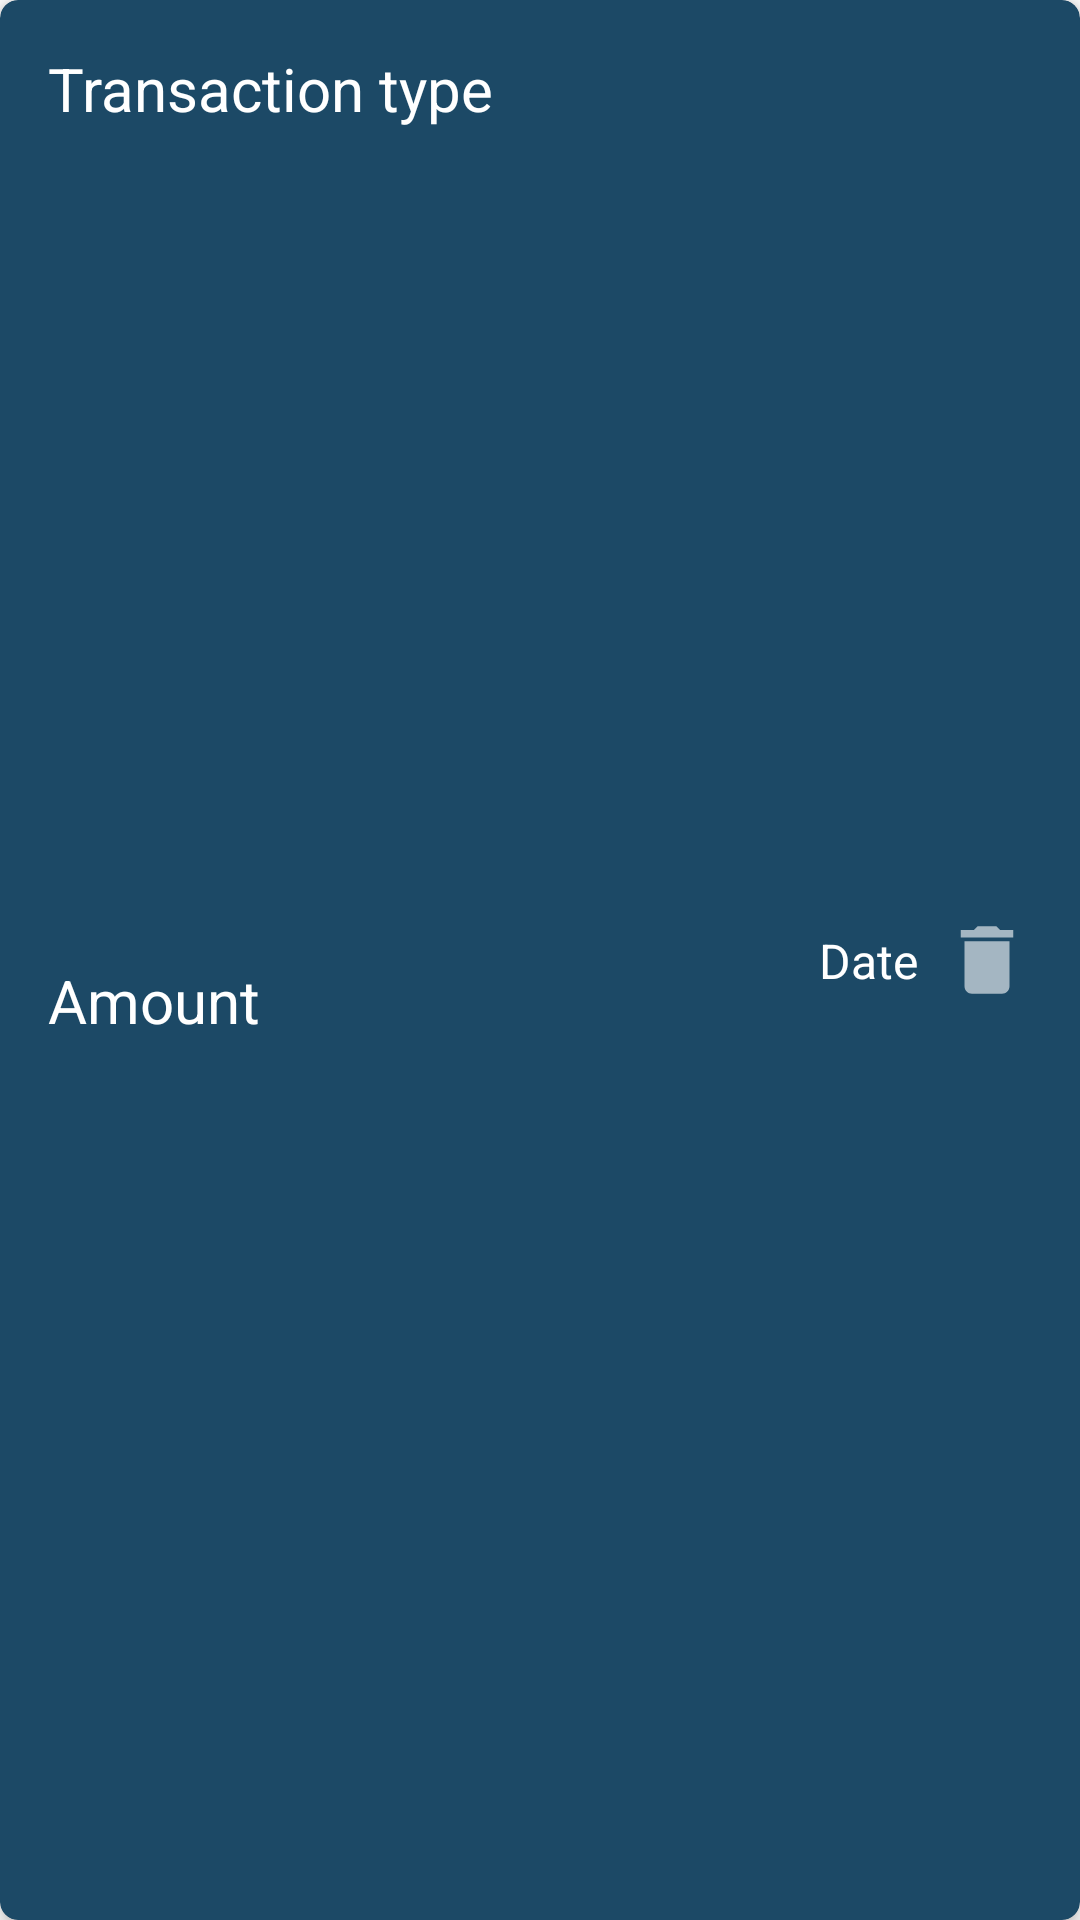

Where to tap for icons on this 1080px×1920px app screen, as point (x, y):
Delete button: point (987, 960)
